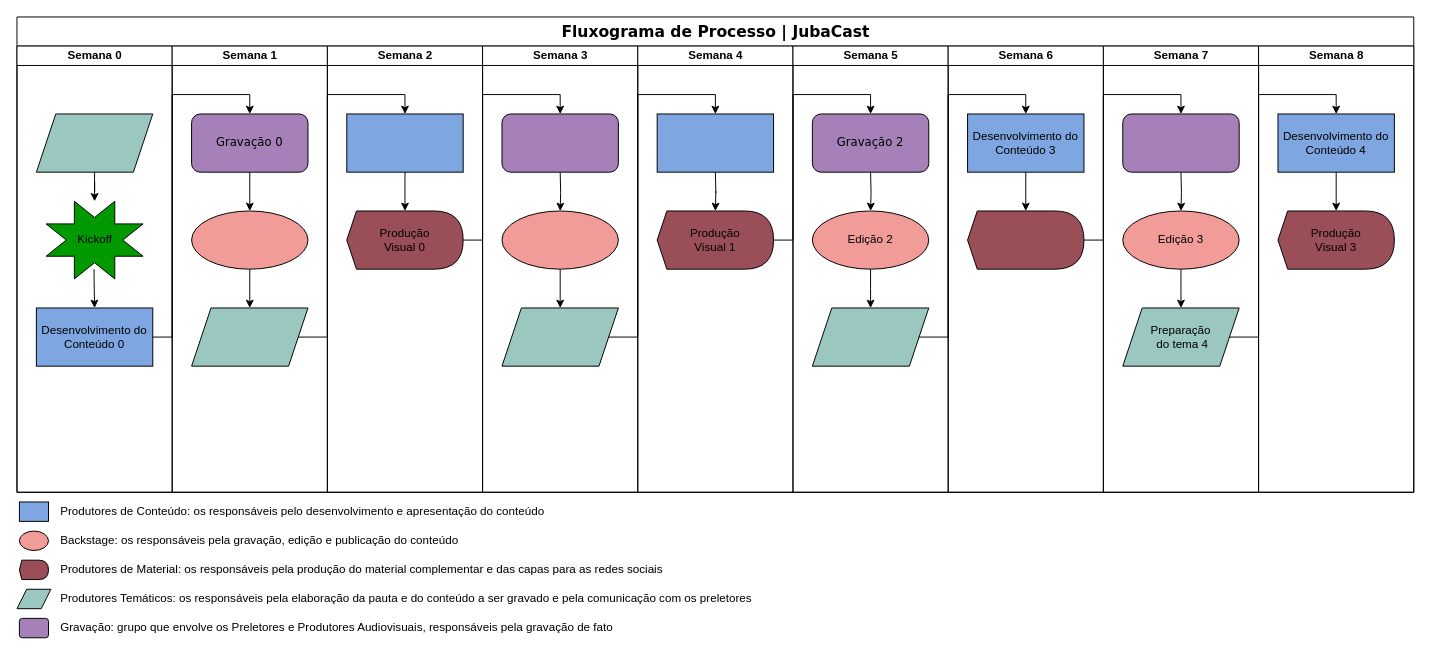
The diagram is 1431 pixels wide and 655 high, and some of its shapes have lost their labels. Each missing label, with the centre of its shape:
Desenvolvimento do Conteúdo 1: the point at 404,142
Desenvolvimento do Conteúdo 2: the point at 715,142
Edição 0: the point at 249,239
Edição 1: the point at 559,239
Gravação 1: the point at 559,142
Gravação 3: the point at 1180,142
Preparação do tema 0: the point at 94,142
Preparação do tema 1: the point at 249,336
Preparação do tema 2: the point at 559,336
Preparação do tema 3: the point at 870,336
Produção Visual 2: the point at 1025,239
